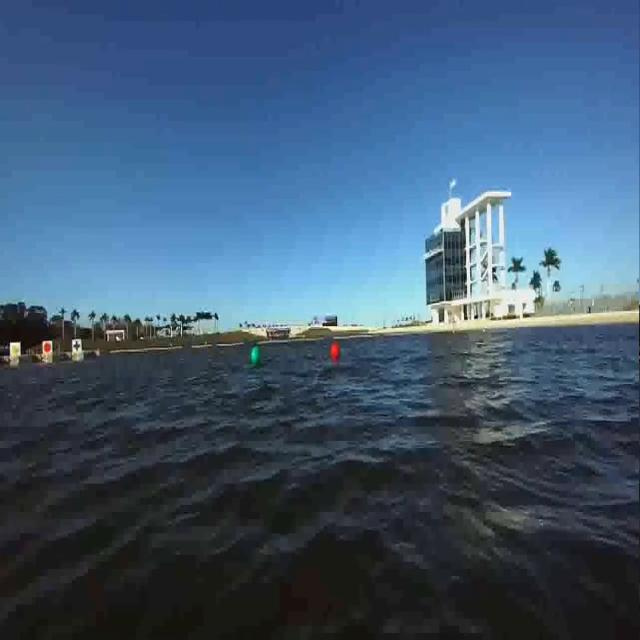green-buoy: (250, 345, 261, 365)
red-buoy: (330, 343, 339, 360)
